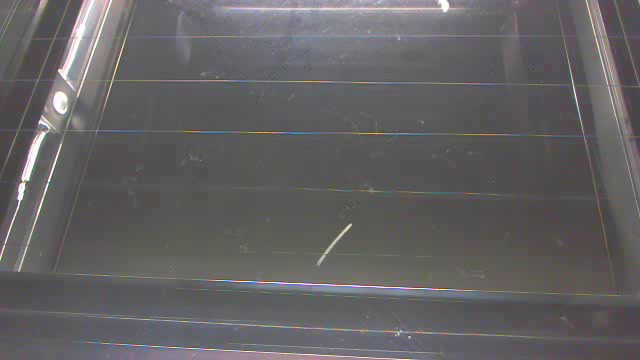alpha: (314, 220, 359, 274)
